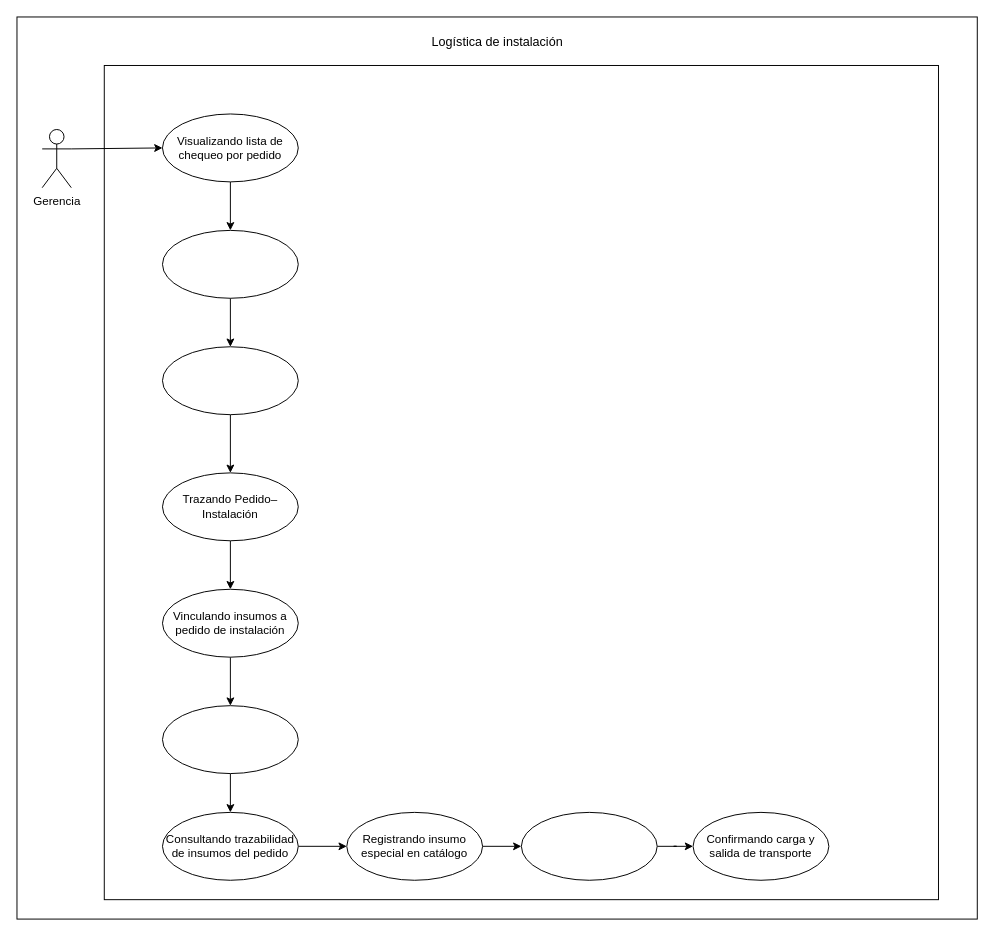
Image size: 994x936. Some labels were removed from this diagram. The shapes that lost their labels are listed below. From the top down, each one's centre as x and y in pixels, then its label:
At (x=230, y=263): "Consultando estado de disponibilidad del pedido".
At (x=230, y=380): "Reportando discrepancia en checklist".
At (x=230, y=739): "Controlando insumos especiales".
At (x=588, y=845): "Registrando retiro de insumos (Picking)".
